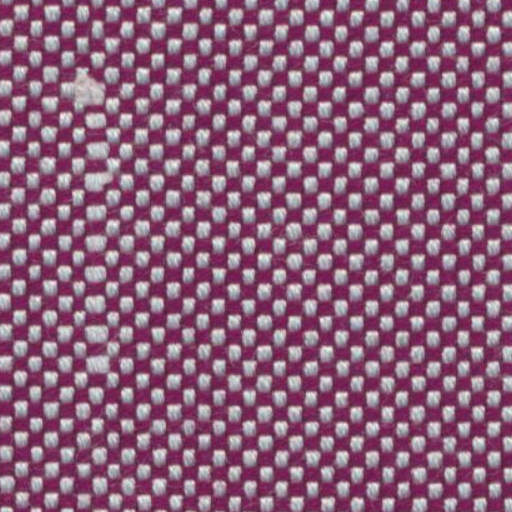DaiSha: (52, 66, 136, 391)
